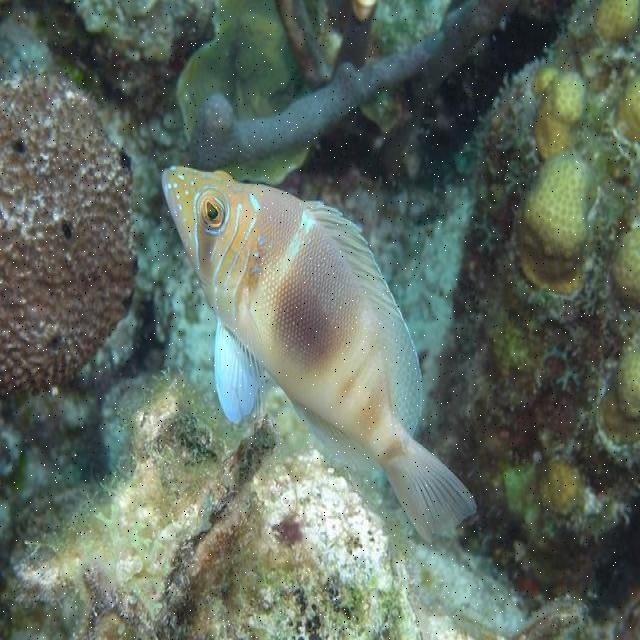fish: (161, 167, 477, 544)
reefs: (419, 2, 639, 624), (188, 1, 524, 185), (1, 71, 136, 396)
